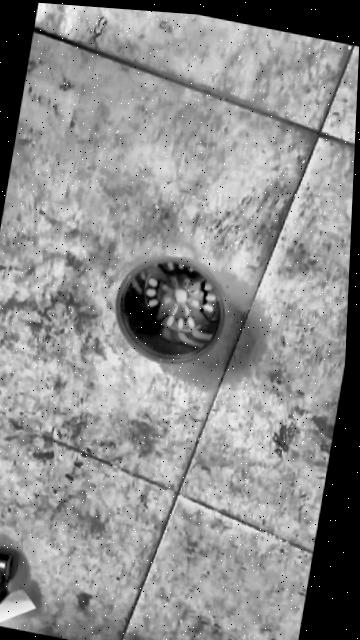pot: (107, 246, 234, 373)
